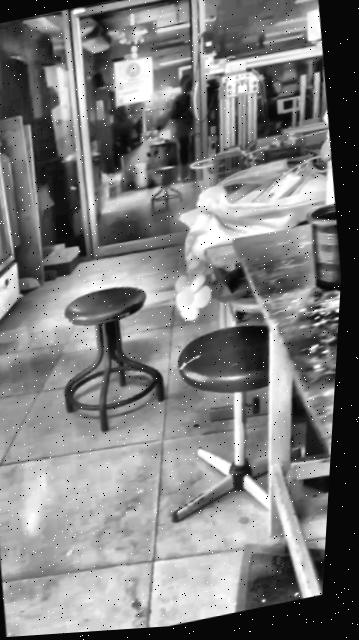pot: (306, 203, 341, 288)
